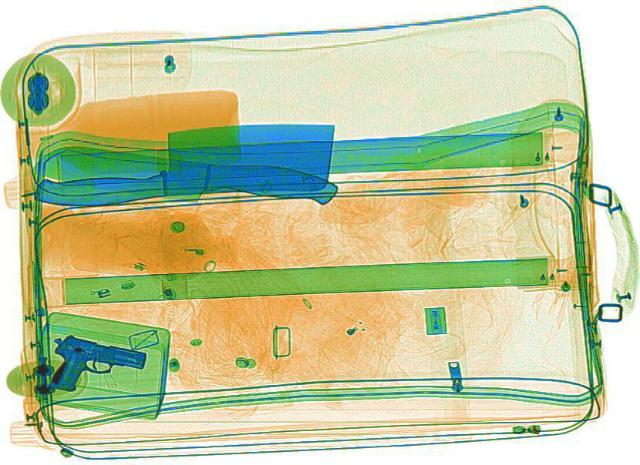Gun: (36, 328, 152, 402)
Knife: (24, 127, 350, 227), (23, 116, 340, 205)
